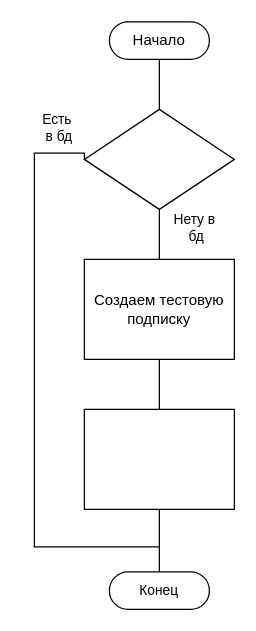
Image size: 256x631. Some labels were removed from this diagram. The centre of each missing label's shape, as x and y in pixels:
Есть ли пользователь в базе данных: the point at 158,158
Заносим id пользователя и время тестовой подписки в базу данных: the point at 158,458
